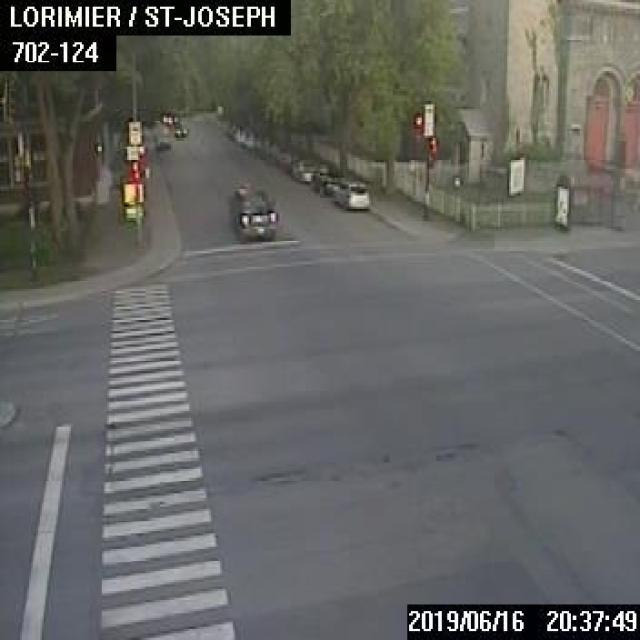vehicle: (228, 182, 277, 240), (331, 179, 369, 208), (310, 162, 343, 194), (291, 158, 313, 180), (154, 130, 170, 147), (159, 113, 177, 124), (172, 122, 186, 136)
